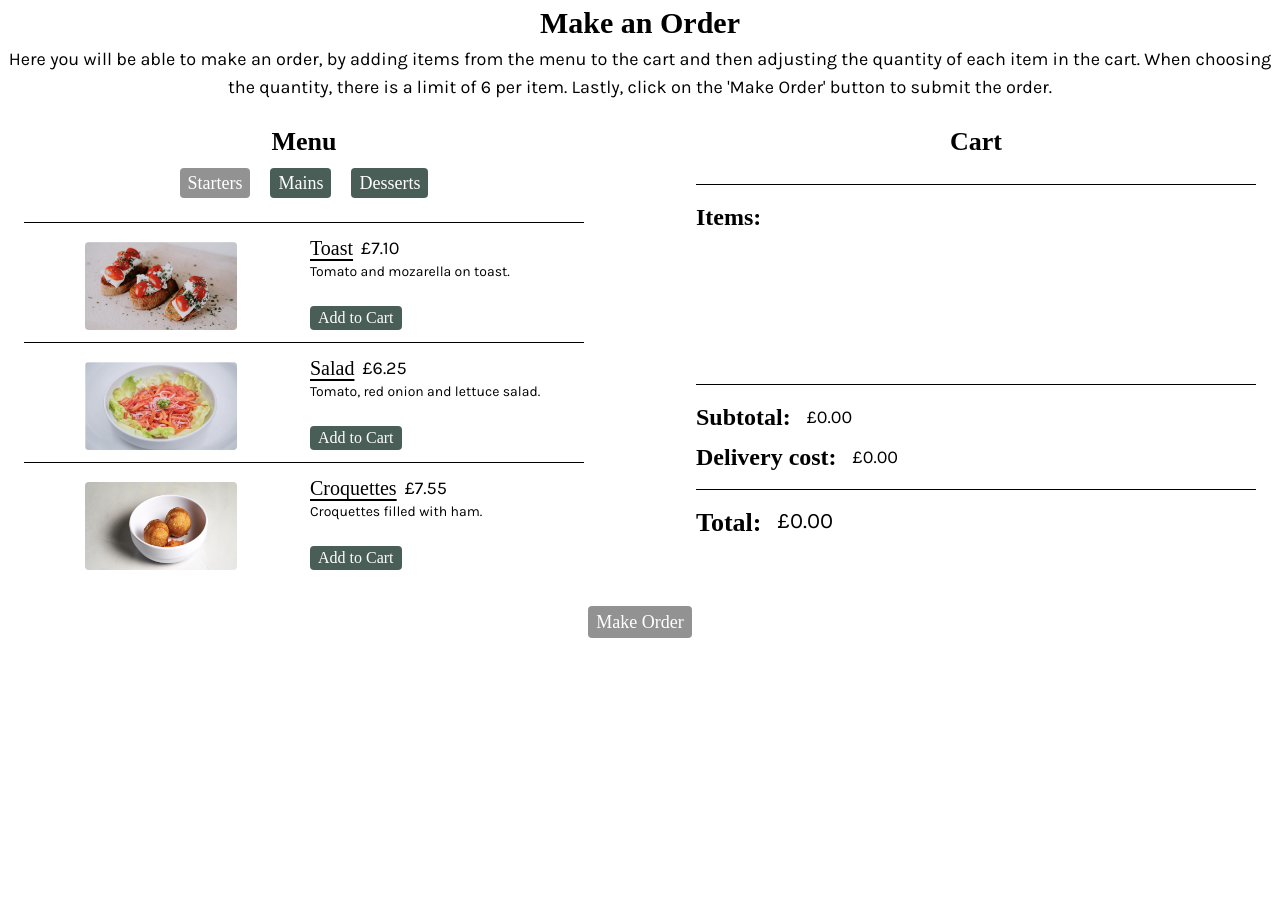
Scenario: MakeAnOrder › correctly displays Cart, when the quantity of an item is increased. In addition, the PlusButton of an item disappears once that item reaches the maximum quantit
Click the button "Add to Cart" below "Tomato and mozarella on toast.".
click(356, 318)  # box [310,306,402,330]
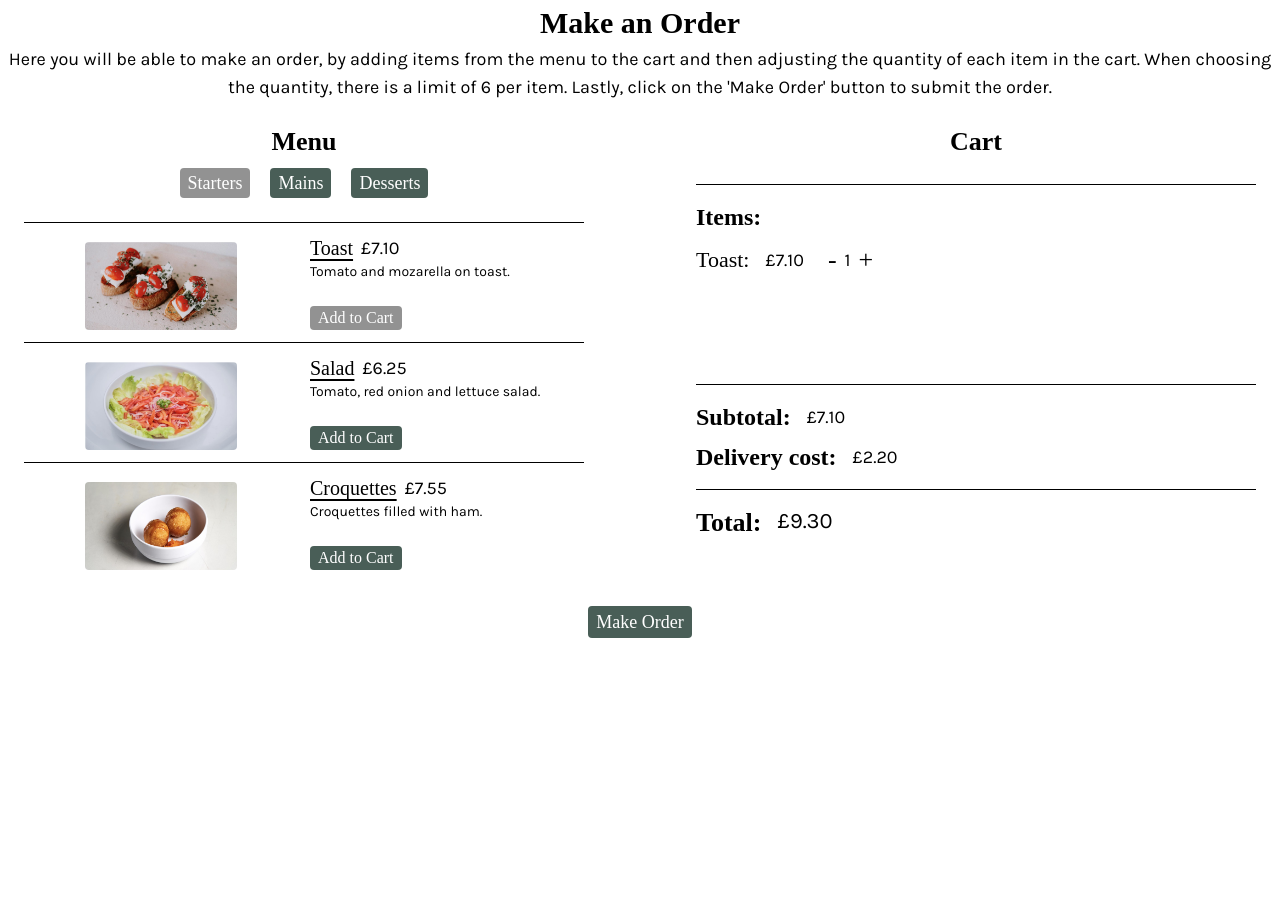
Click the button "+".
click(866, 260)  # box [851,241,881,279]
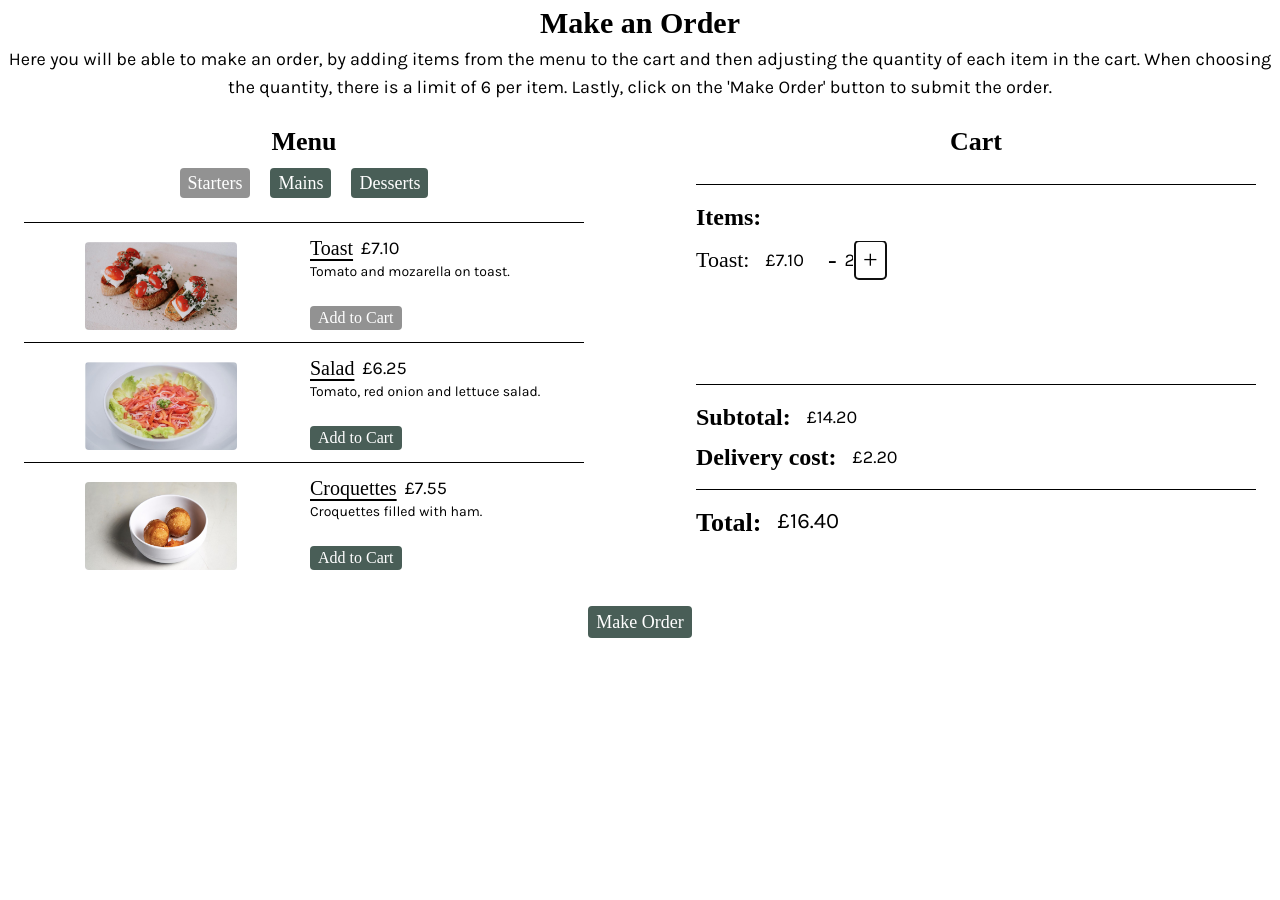
Now the text "Toast:" is shown, box [696,245,750,275]
Now the text "£7.10" below "Items:" is shown, box [766,246,804,274]
Now the element with test id "order-items-section" reads "Toast: £7.10 - 2 +", box [696,241,886,279]
Click the button "+".
click(870, 260)  # box [855,241,886,279]
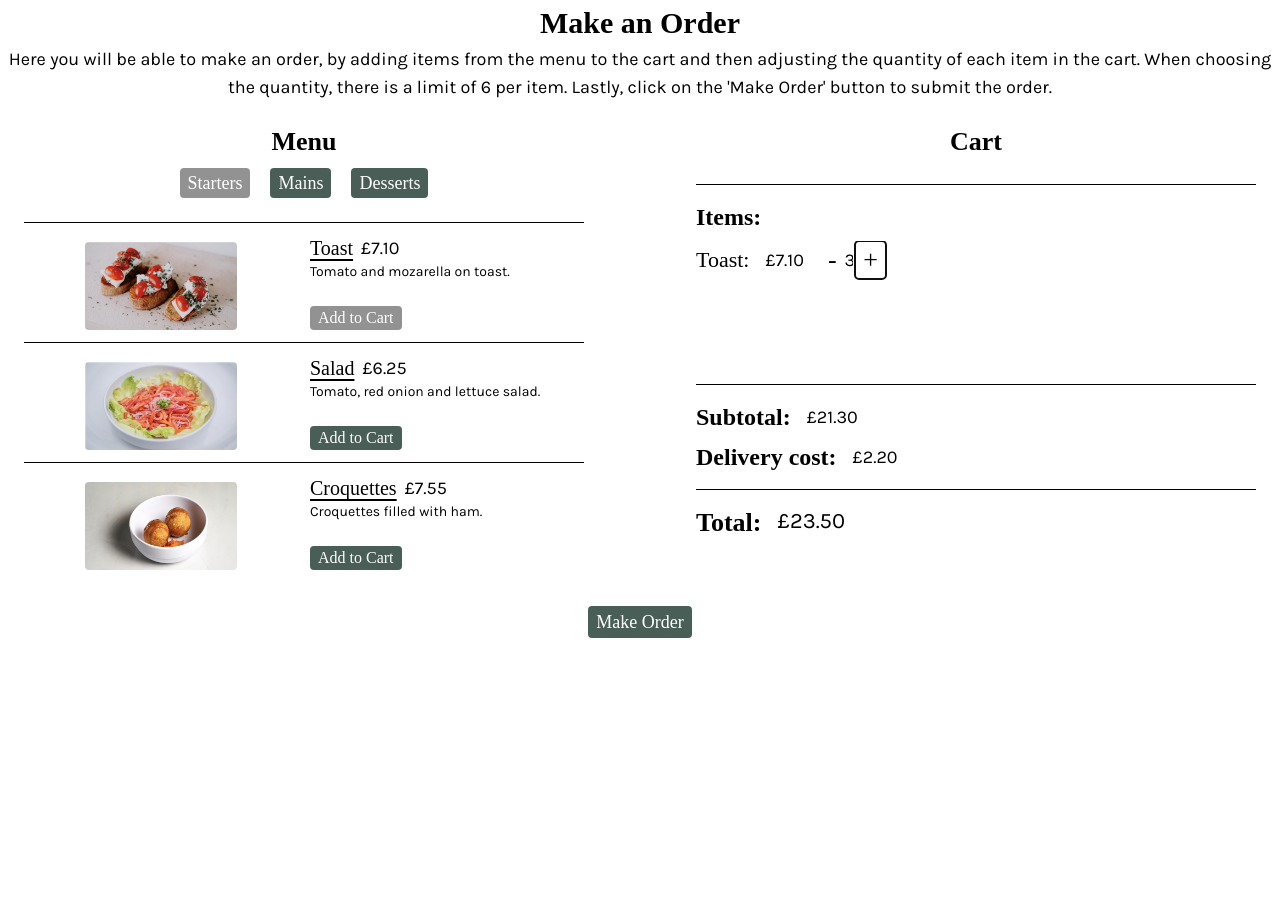
Click the button "+".
click(871, 260)  # box [855,241,886,279]
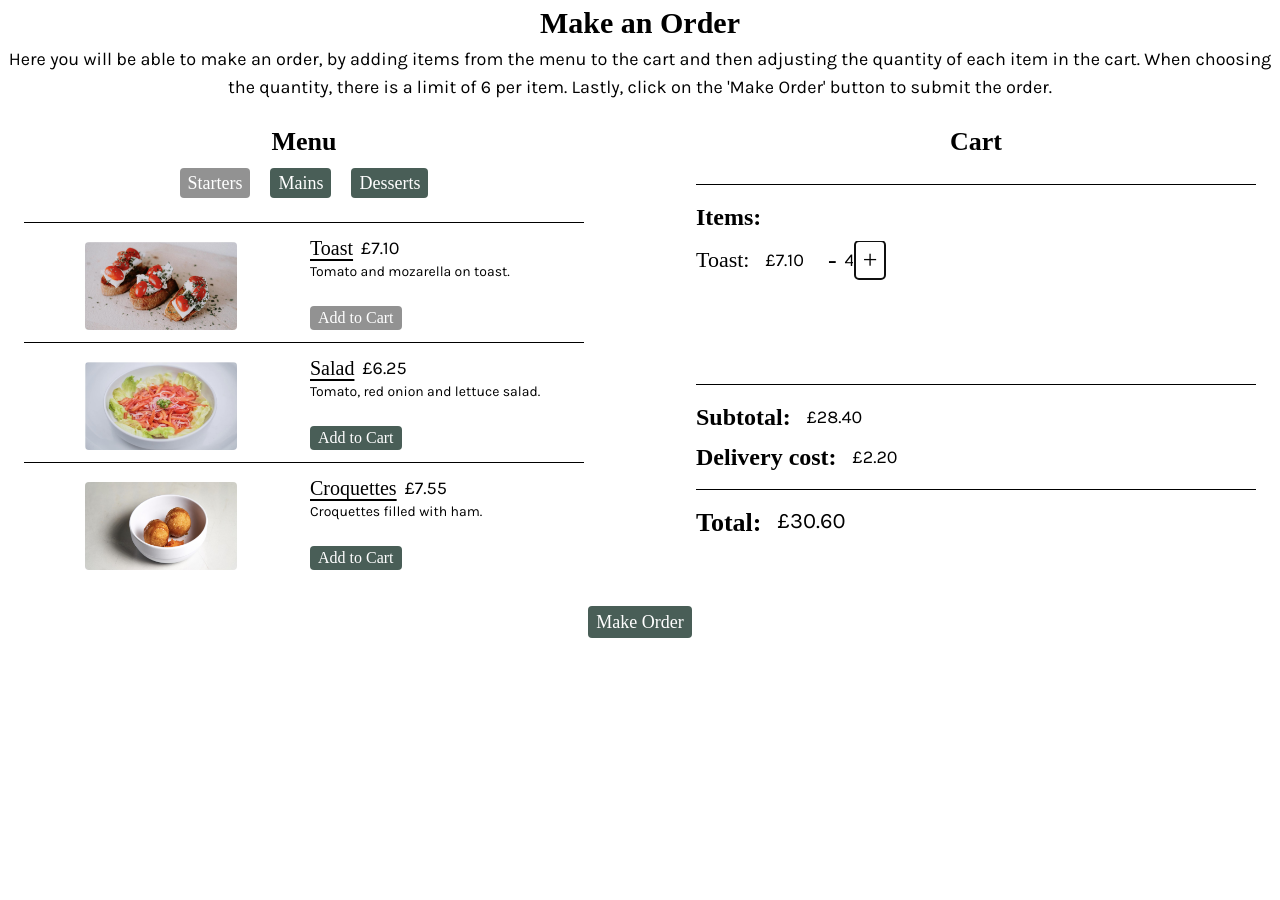
Click the button "+".
click(870, 260)  # box [855,241,885,279]
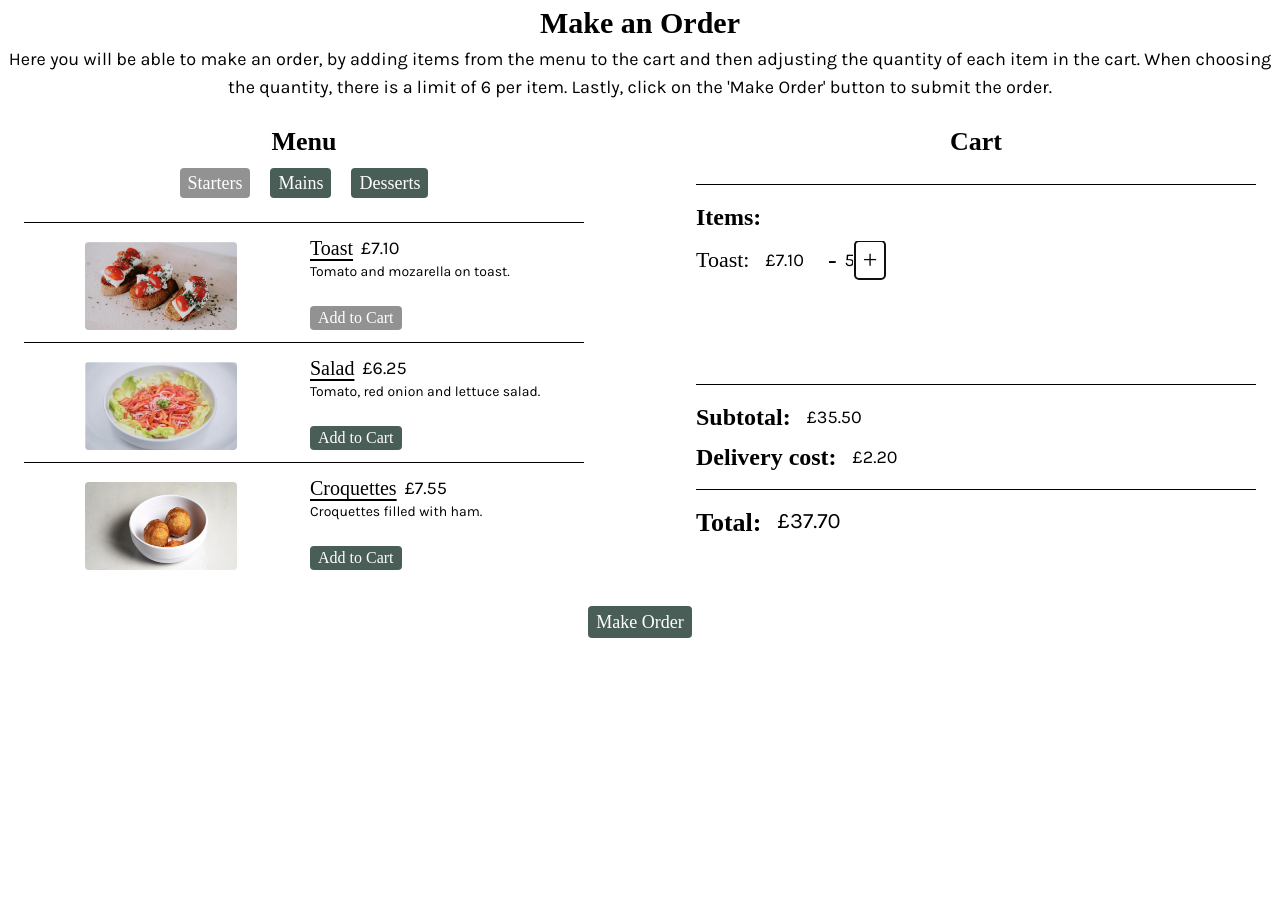
Click the button "+".
click(870, 260)  # box [855,241,886,279]
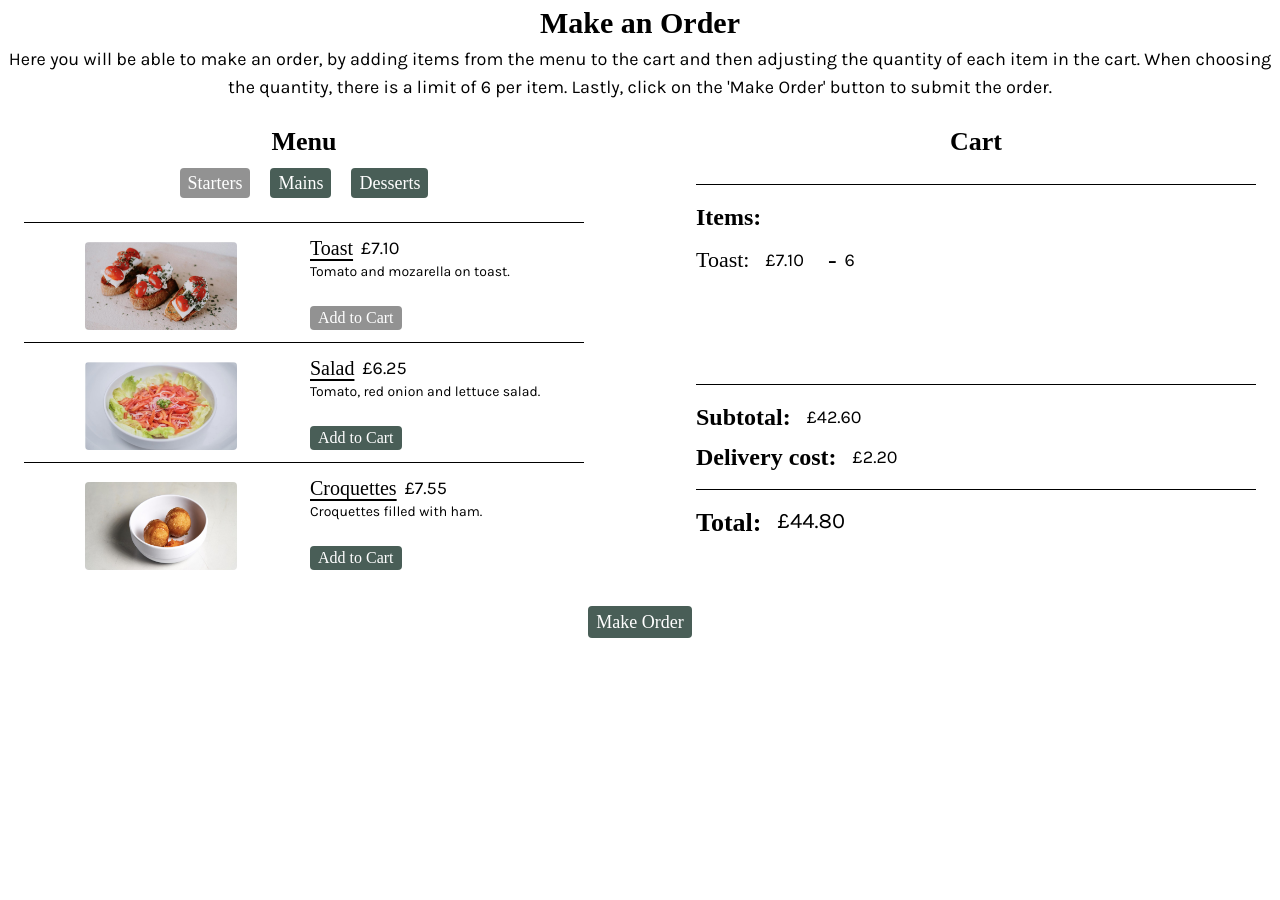
Now the text "Toast:" is shown, box [696,245,750,275]
Now the text "£7.10" below "Items:" is shown, box [766,246,804,274]
Now the element with test id "order-items-section" reads "Toast: £7.10 - 6", box [696,241,855,279]
